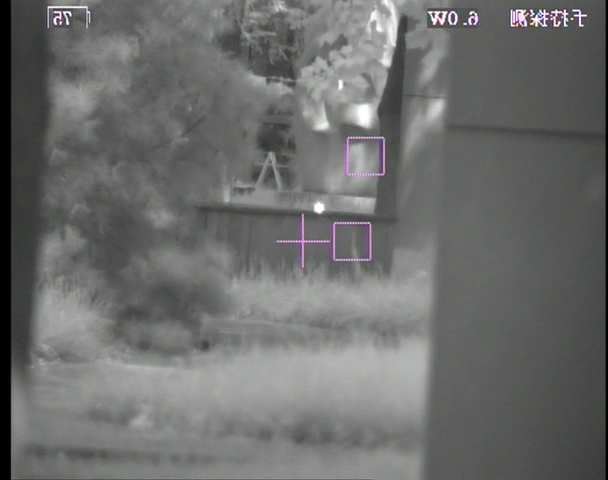my: (313, 199, 326, 215)
